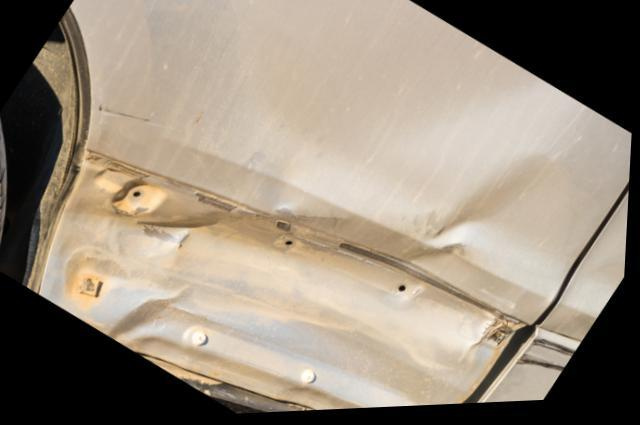dent: (51, 136, 567, 380)
dislocated part: (457, 175, 632, 408)
